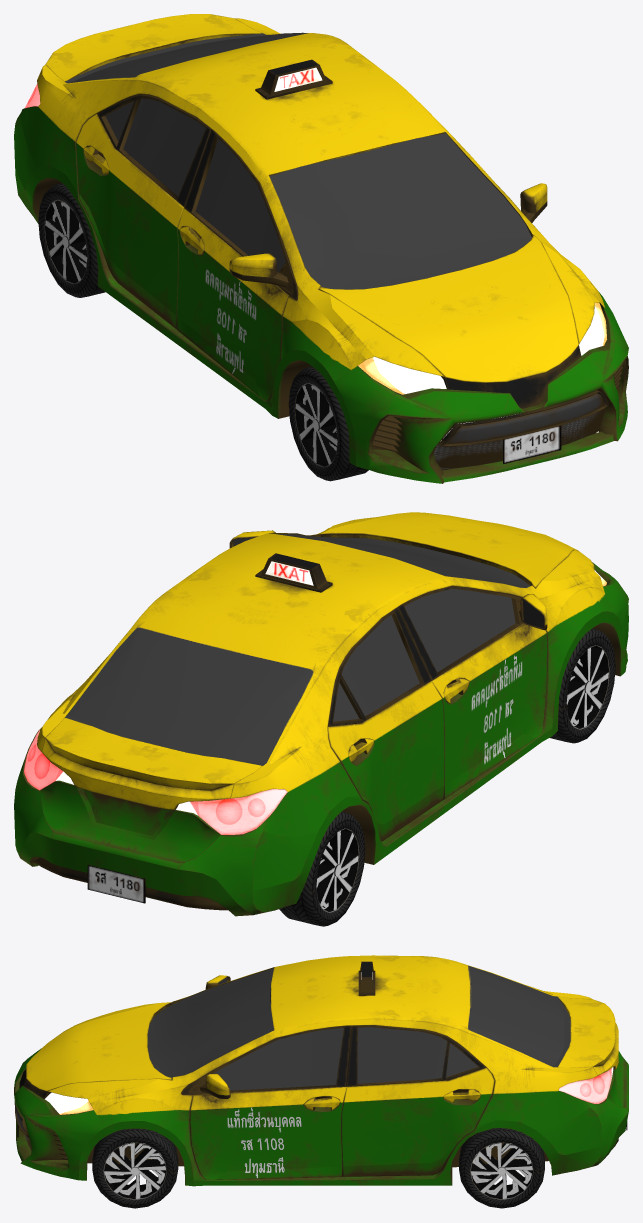
File: CAR_A.fbx
The picture shows the model from 3 angles, top to bottom: view 1: azimuth 30°, elevation 25°; view 2: azimuth 150°, elevation 25°; view 3: azimuth 270°, elevation 25°; orthographic projection. The views are drawn at different scales.
Visible parts, largest first — view 1: boby, Door2, Door4, Front_wheel_R, Rear_wheel, boby.002, Door1; view 2: boby, Door2, Door4, Rear_wheel, Front_wheel_R, boby.001; view 3: boby, Door1, Door3, Front_wheel_L, Rear_wheel.
Part boxes in pixels (<box>): boby: <box>14,14,628,483</box>; Door2: <box>177,129,297,401</box>; Door4: <box>76,94,210,329</box>; Front_wheel_R: <box>288,366,368,481</box>; Rear_wheel: <box>38,183,105,297</box>; boby.002: <box>503,425,561,463</box>; Door1: <box>520,183,547,226</box>; boby: <box>14,512,628,916</box>; Door2: <box>397,586,547,799</box>; Door4: <box>328,608,444,841</box>; Rear_wheel: <box>279,812,365,926</box>; Front_wheel_R: <box>550,628,615,743</box>; boby.001: <box>87,864,145,903</box>; boby: <box>14,955,628,1186</box>; Door1: <box>181,1025,351,1179</box>; Door3: <box>341,1025,494,1176</box>; Front_wheel_L: <box>92,1128,178,1208</box>; Rear_wheel: <box>459,1128,544,1208</box>.
Bounding box in the file's own units: 210 × 167 × 486.
